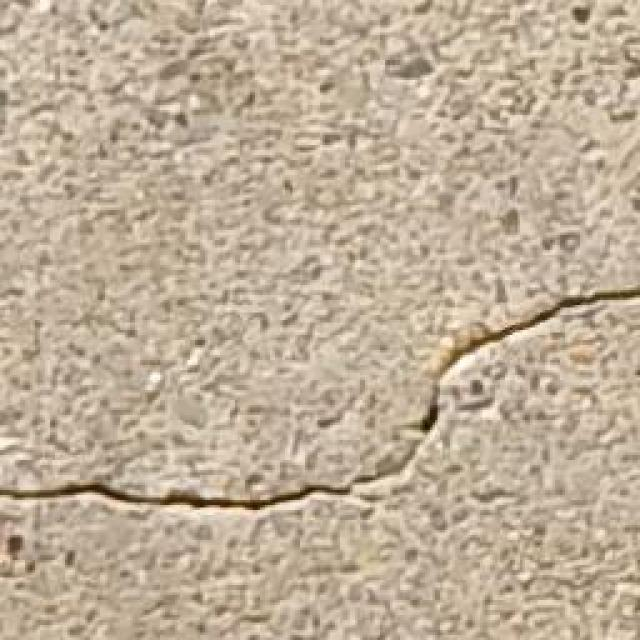concrete-crack: (0, 282, 639, 517)
